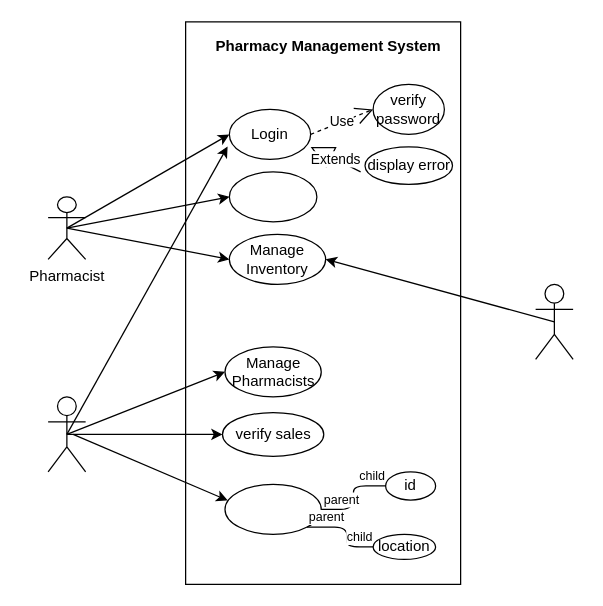
The diagram is 603 pixels wide and 606 high, and some of its shapes have lost their labels. Here are the shapes that lost their labels. From the top down, the box of each, then its label:
(228, 171, 317, 222): sell
(534, 283, 573, 359): Supplier
(47, 396, 86, 472): Manager/ EM
(224, 483, 321, 534): Manage Stores
